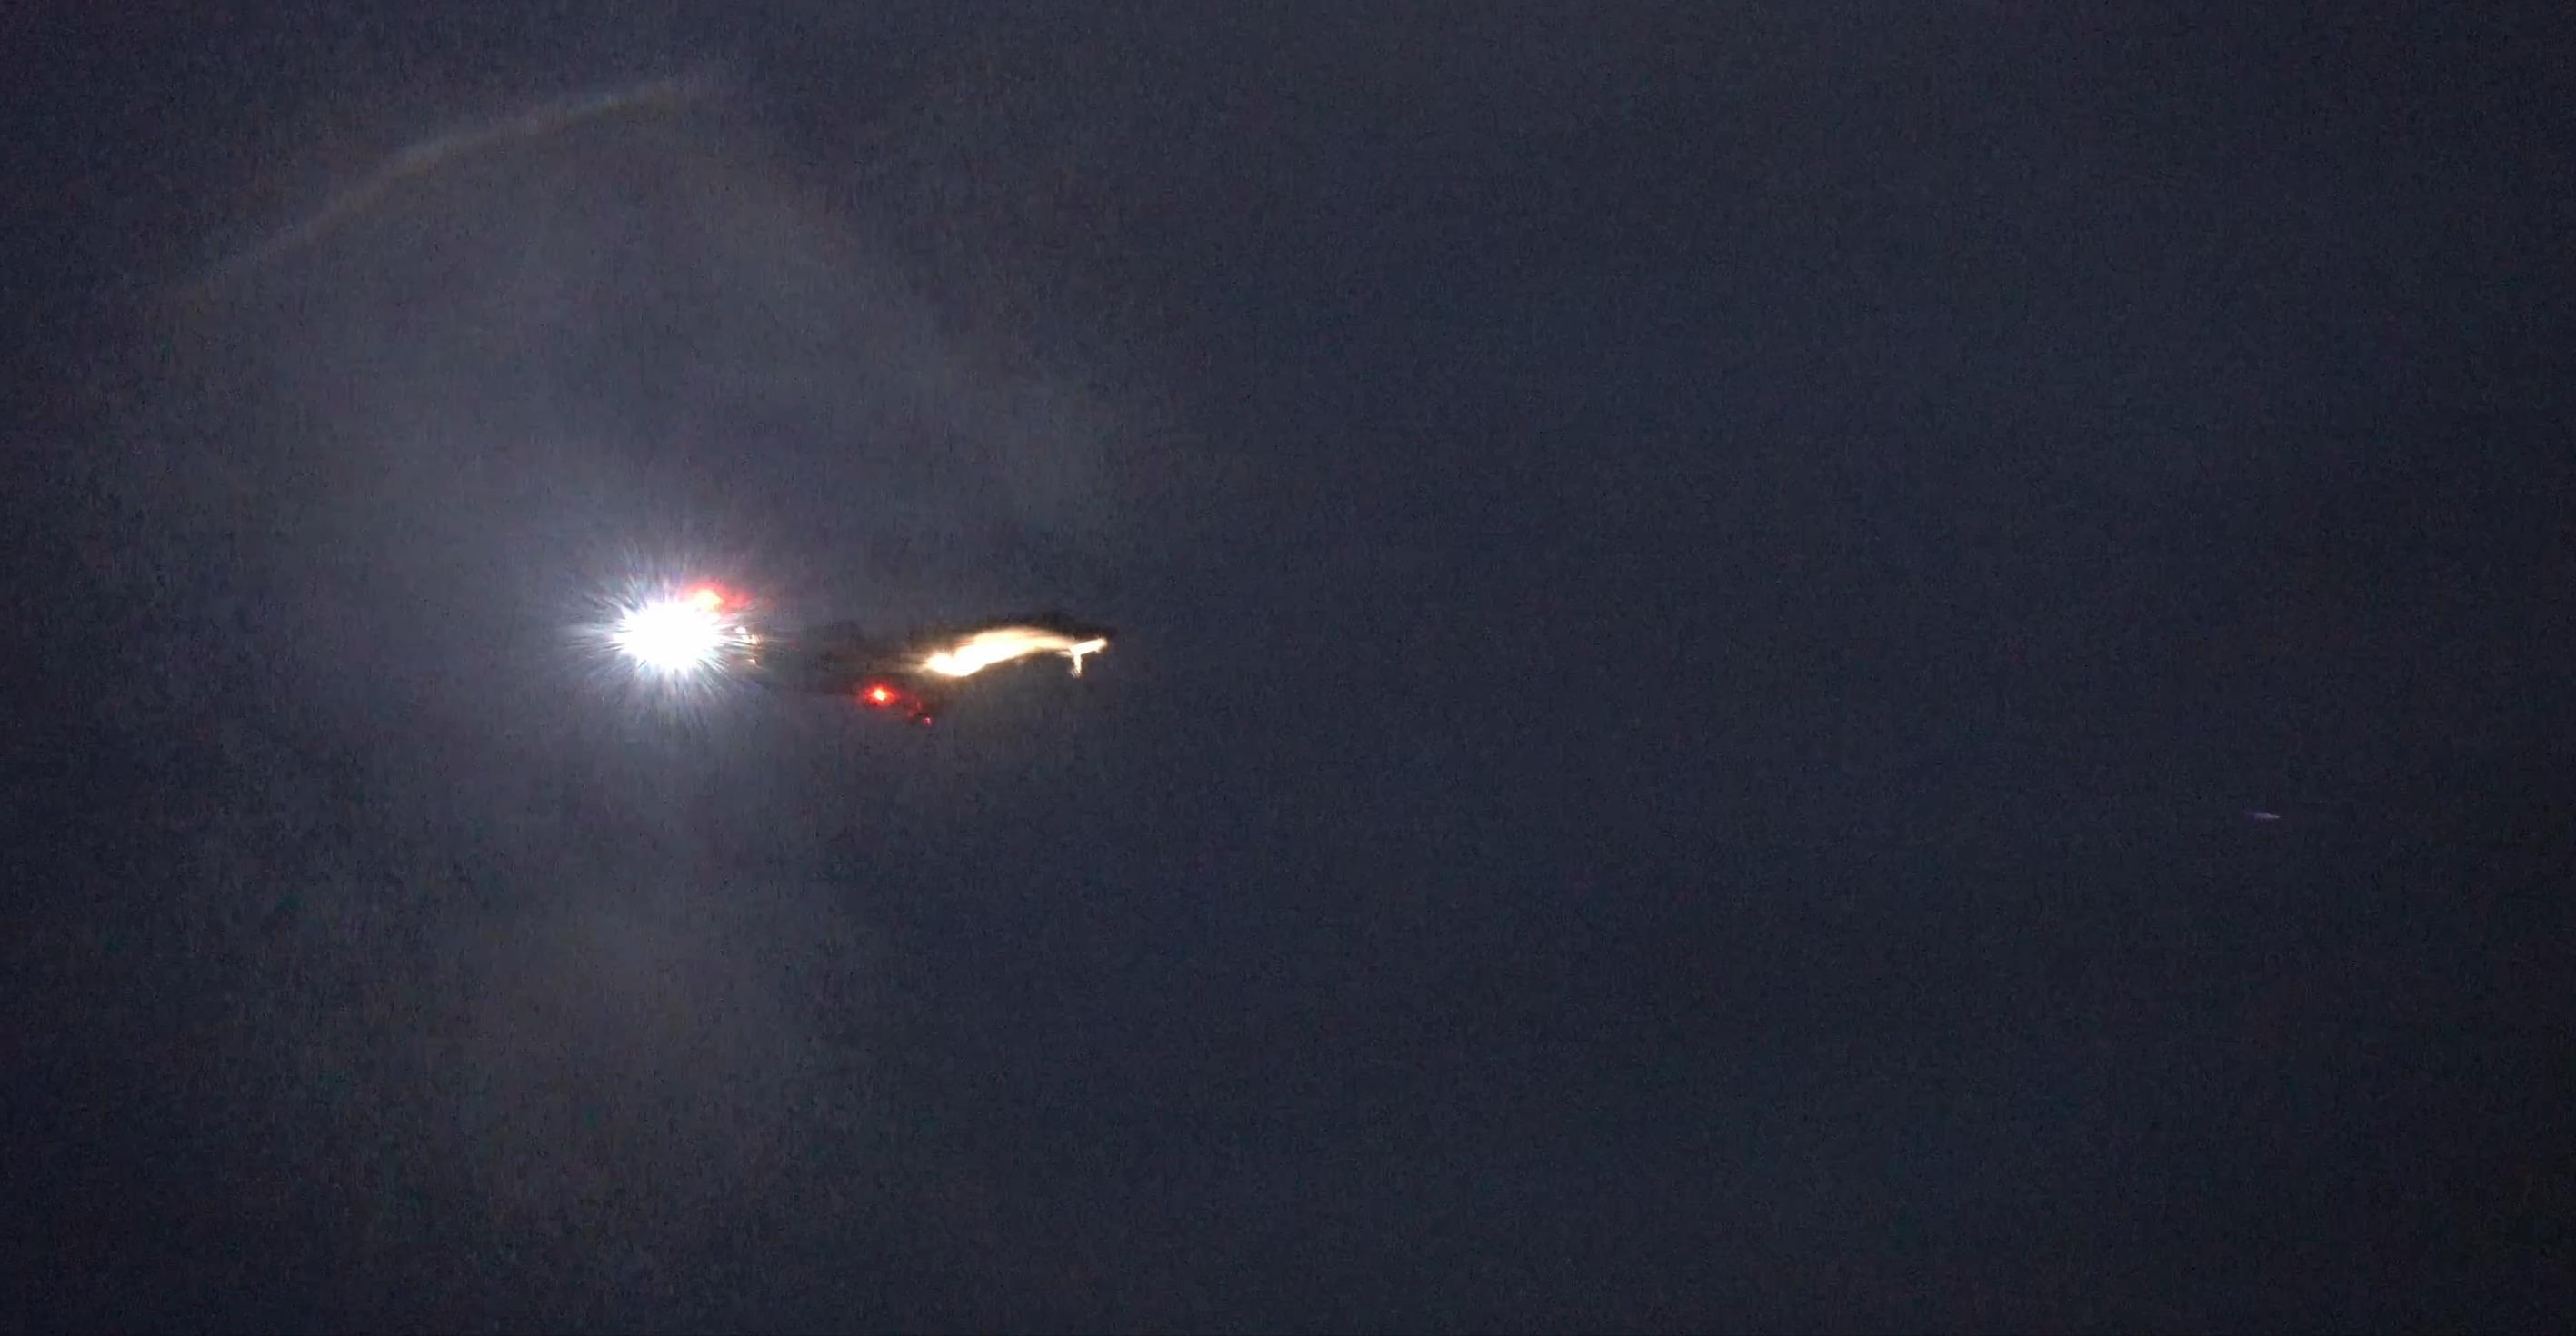Plane: (557, 552, 1106, 765)
